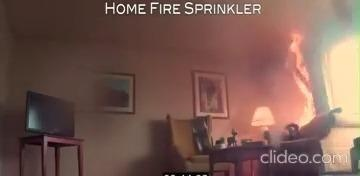fire: (272, 26, 325, 131)
